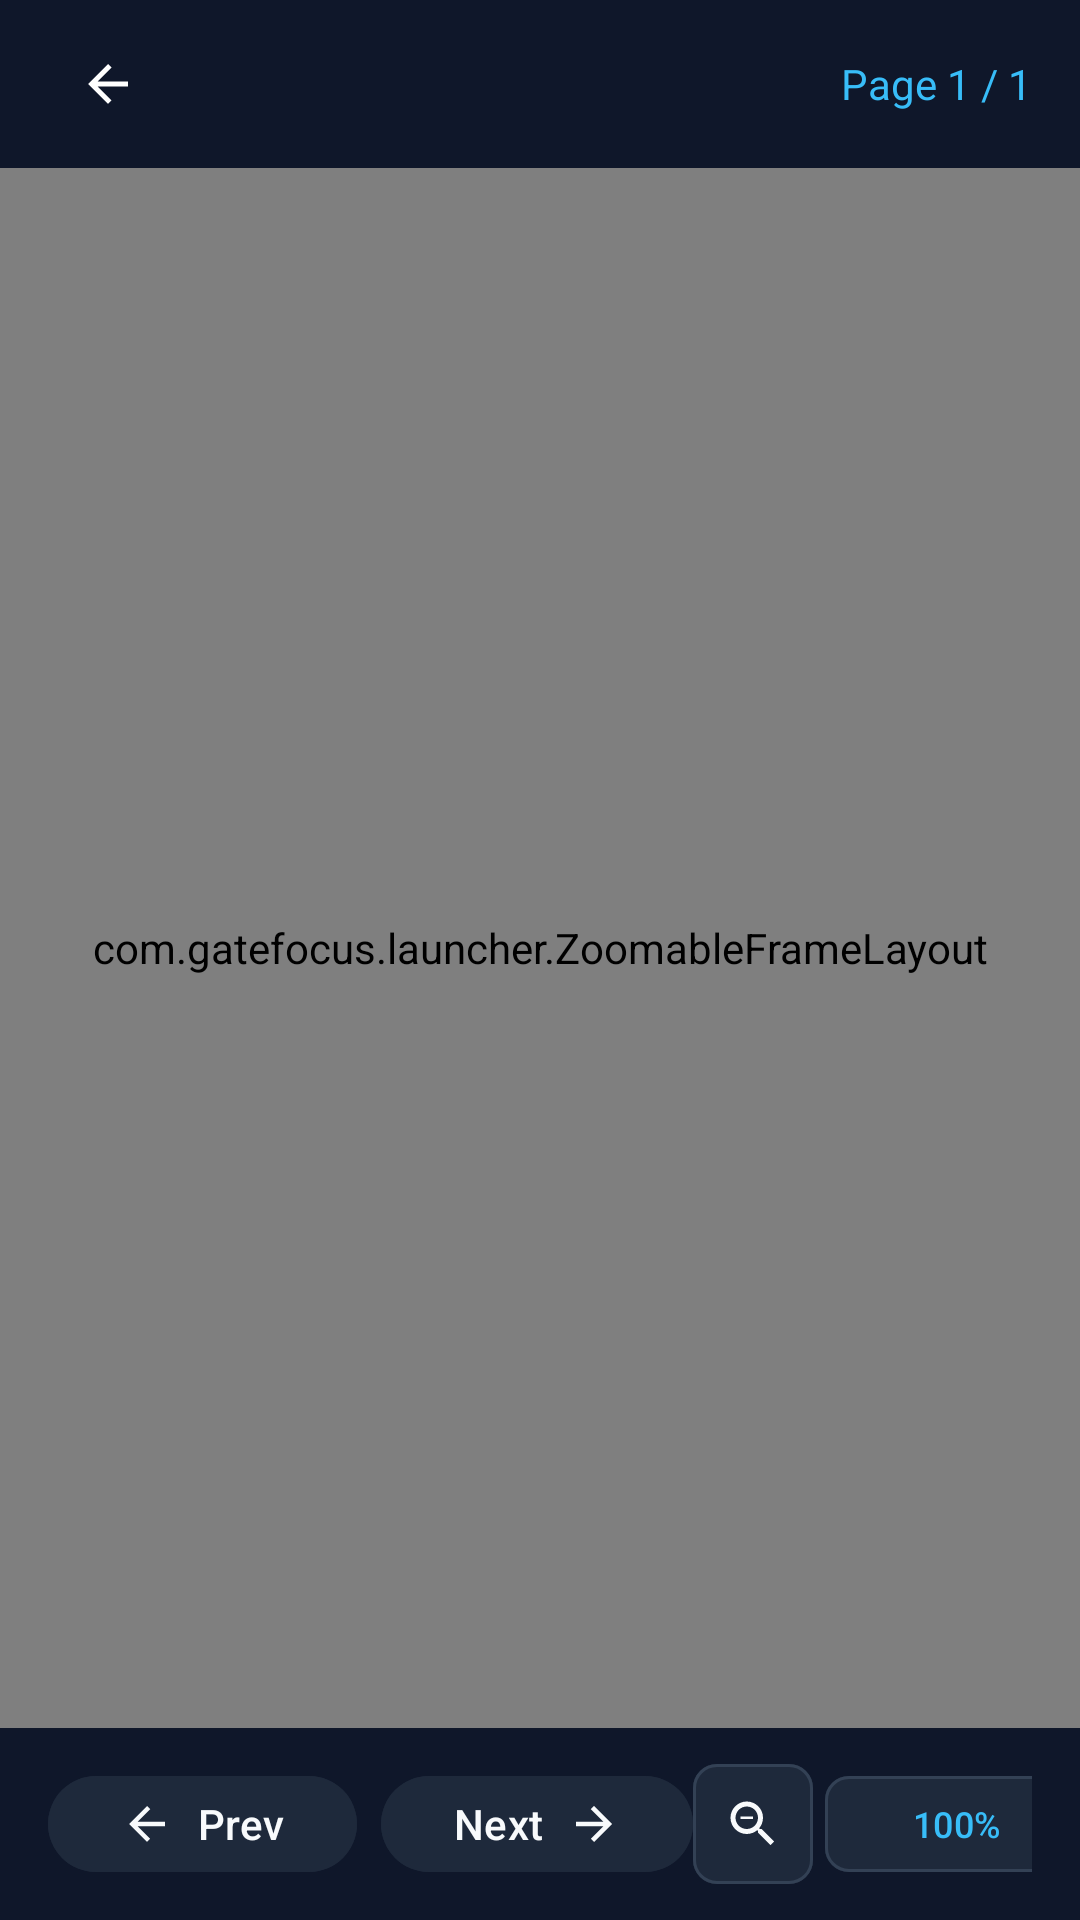

Icon click points for this 1080x1920 phone screenshot, format (x=x, y=y):
arrow back: (x=108, y=84)
zoom out: (x=753, y=1824)
